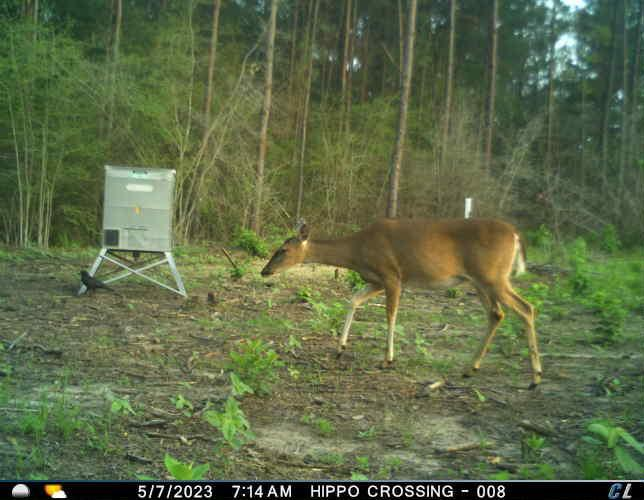Deer: (256, 214, 546, 394), (466, 214, 528, 319)
